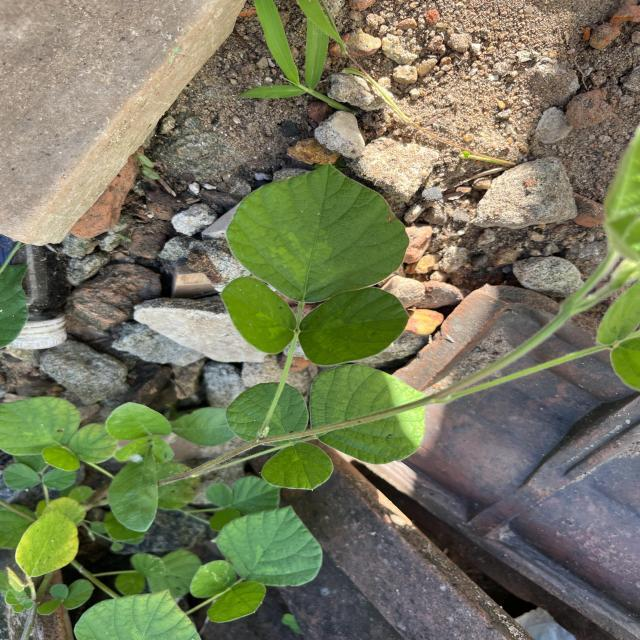Pseudarthria viscida: (220, 161, 412, 368), (225, 362, 428, 492)
